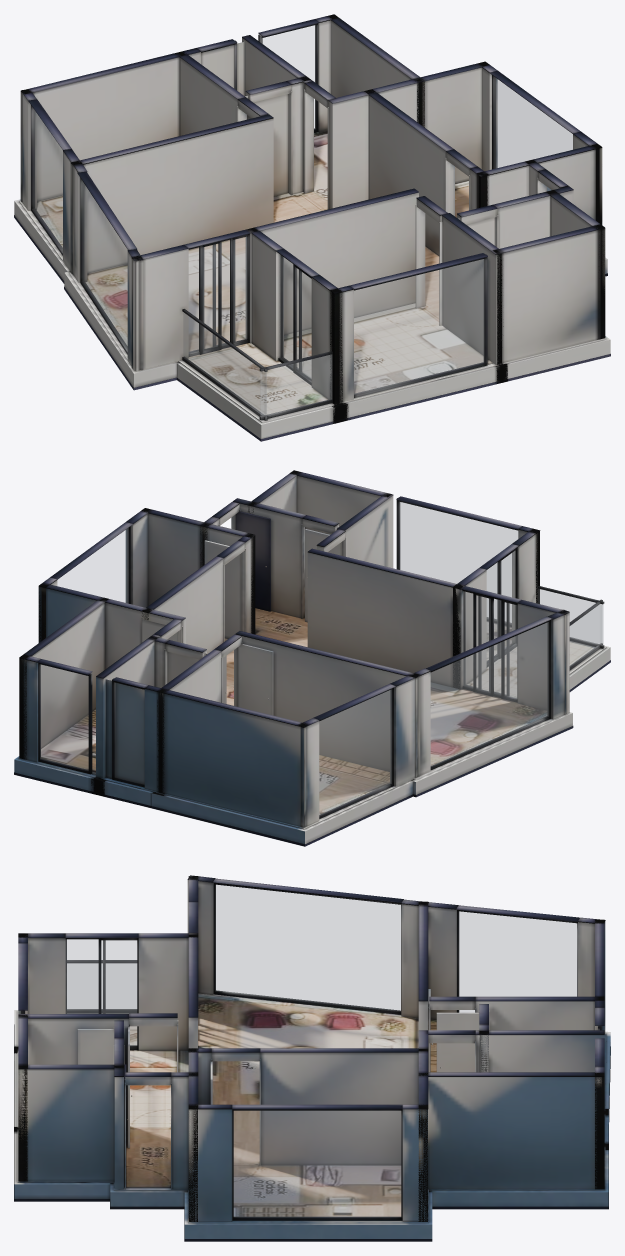
The picture shows the model from 3 angles, top to bottom: view 1: azimuth 30°, elevation 25°; view 2: azimuth 150°, elevation 25°; view 3: azimuth 270°, elevation 25°; orthographic projection. The views are drawn at different scales.
Visible parts, largest first — view 1: plan, glass6_m, glass2_m, glass1_m, glass5_m, railg1_m, railg0_m, glass0_m, glass7_m, glass3_m; view 2: plan, glass1_m, glass0_m, glass6_m, glass3_m, glass2_m, glass5_m, glass4_m, railg0_m, railg1_m, glass7_m; view 3: plan, glass1_m, glass5_m, glass0_m, glass7_m, railg1_m.
Part boxes in pixels (bbox=[...]): plan: bbox=[14, 14, 610, 441]; glass6_m: bbox=[354, 259, 484, 394]; glass2_m: bbox=[189, 237, 246, 352]; glass1_m: bbox=[82, 181, 127, 347]; glass5_m: bbox=[494, 77, 572, 168]; railg1_m: bbox=[183, 312, 266, 417]; railg0_m: bbox=[260, 354, 332, 416]; glass0_m: bbox=[33, 109, 62, 250]; glass7_m: bbox=[279, 255, 311, 379]; glass3_m: bbox=[263, 25, 315, 128]; plan: bbox=[14, 470, 610, 846]; glass1_m: bbox=[431, 622, 548, 766]; glass0_m: bbox=[319, 690, 391, 815]; glass6_m: bbox=[400, 502, 517, 596]; glass3_m: bbox=[40, 664, 88, 770]; glass2_m: bbox=[463, 591, 516, 698]; glass5_m: bbox=[57, 528, 128, 603]; glass4_m: bbox=[115, 683, 143, 783]; railg0_m: bbox=[538, 589, 603, 645]; railg1_m: bbox=[570, 604, 601, 666]; glass7_m: bbox=[487, 551, 514, 641]; plan: bbox=[14, 875, 610, 1241]; glass1_m: bbox=[215, 885, 400, 1010]; glass5_m: bbox=[234, 1111, 400, 1216]; glass0_m: bbox=[459, 911, 576, 1012]; glass7_m: bbox=[66, 939, 136, 1045]; railg1_m: bbox=[67, 964, 136, 1008].
Size of the model in its own units: 10.14 by 2.62 by 10.82.
Materials: 2 (1 with a texture image).
